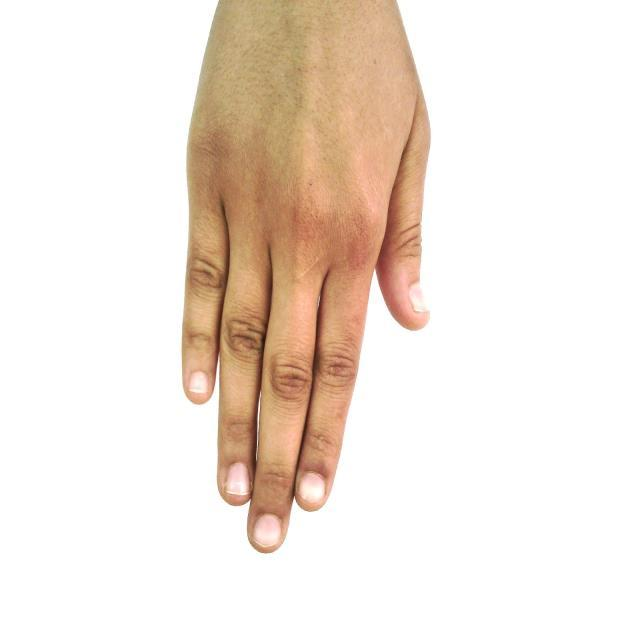Fingernail: (254, 515, 281, 548), (225, 462, 250, 495), (300, 473, 325, 504), (409, 283, 429, 311), (189, 371, 207, 393)
